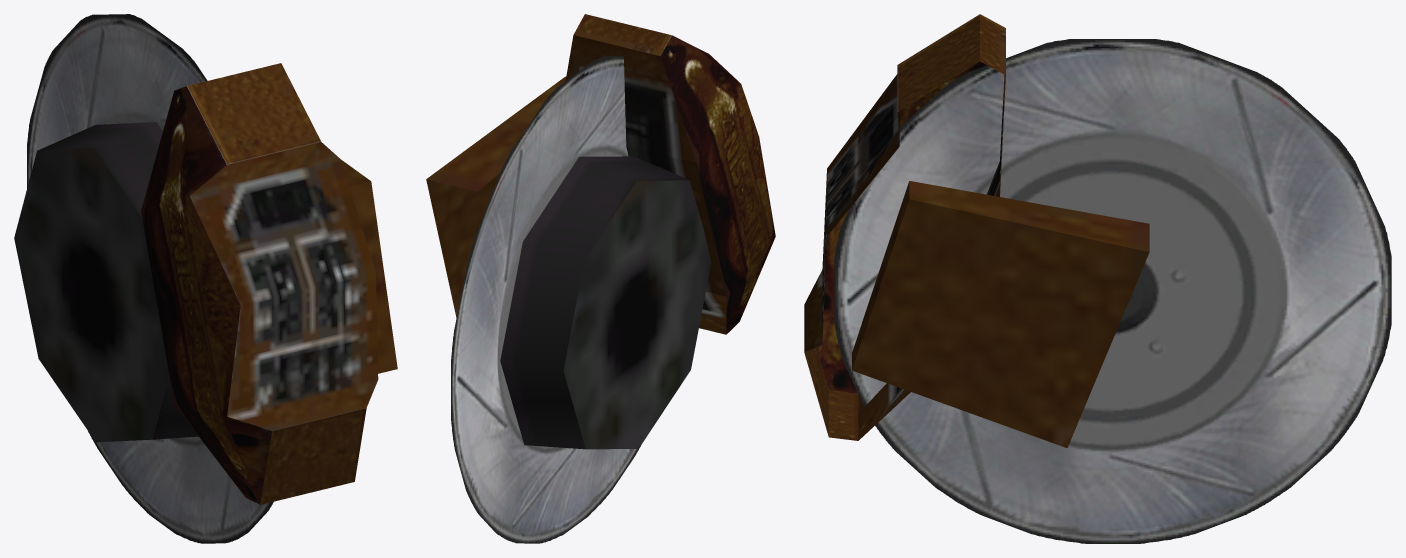
File: nissan_silvia_s15_front_right_brake.fbx
3 views of the same model, side by side, from view 1: azimuth 30°, elevation 25°; view 2: azimuth 150°, elevation 25°; view 3: azimuth 270°, elevation 25° (orthographic). The views are drawn at different scales.
Visible parts, largest first — view 1: x0_hub_caliper_fr, x0_disc_fr; view 2: x0_hub_caliper_fr, x0_disc_fr; view 3: x0_disc_fr, x0_hub_caliper_fr.
Part boxes in pixels (box(x1,y1,x2,y2)): x0_hub_caliper_fr: box(14, 63, 397, 504); x0_disc_fr: box(27, 14, 273, 543); x0_hub_caliper_fr: box(426, 14, 775, 449); x0_disc_fr: box(451, 56, 640, 543); x0_disc_fr: box(834, 39, 1391, 543); x0_hub_caliper_fr: box(804, 14, 1149, 447).
Bounding box in the file's own units: 0.1468 × 0.307 × 0.3206.
